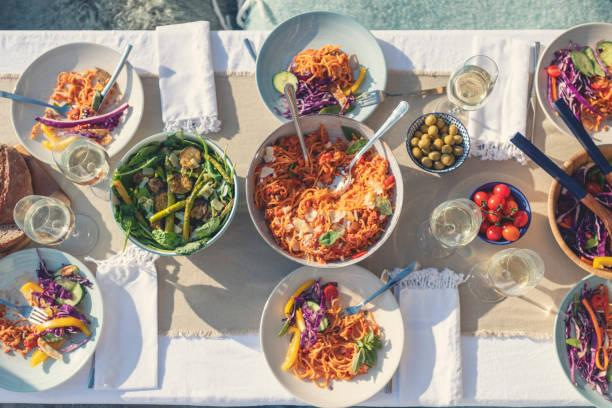Braised Crucian Carp: (244, 116, 400, 265), (257, 264, 404, 407), (10, 41, 143, 166), (109, 130, 235, 255), (254, 10, 385, 126), (1, 247, 103, 391), (534, 22, 612, 147), (549, 146, 612, 275)
